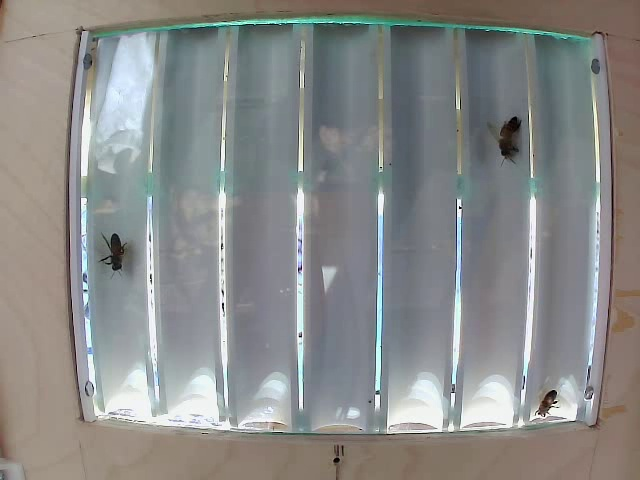bee: (489, 110, 533, 170), (106, 230, 137, 282)
